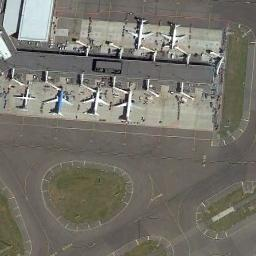Airplane: (82, 84, 112, 122), (116, 88, 146, 122), (44, 86, 76, 116), (127, 18, 154, 49), (160, 22, 186, 50)
